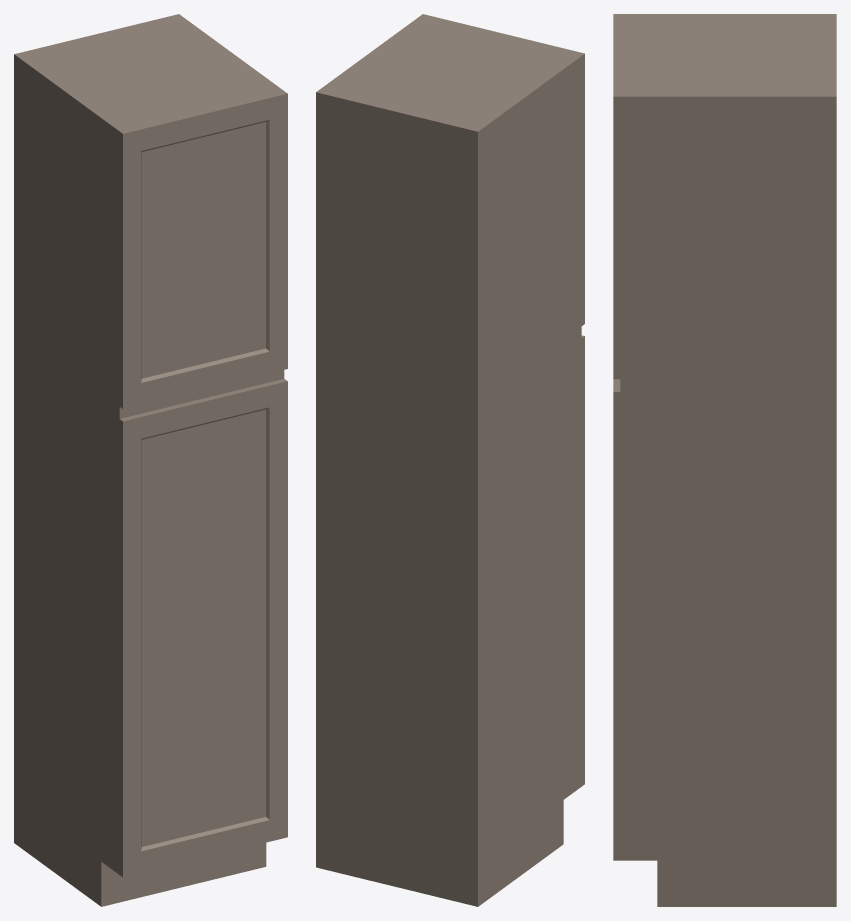
The model's file is Universal-Design-Utility-Cabinet-24-Deep_std_001_W21in_1D.glb.
3 renders of one model, left to right at view 1: azimuth 30°, elevation 25°; view 2: azimuth 150°, elevation 25°; view 3: azimuth 270°, elevation 25°, orthographic. The views are drawn at different scales.
Visible parts, largest first — view 1: Universal-Design-Utility-Cabinet-24-Deep.std.001_W21in_1D; view 2: Universal-Design-Utility-Cabinet-24-Deep.std.001_W21in_1D; view 3: Universal-Design-Utility-Cabinet-24-Deep.std.001_W21in_1D.
Part boxes in pixels (bbox=[...]): Universal-Design-Utility-Cabinet-24-Deep.std.001_W21in_1D: bbox=[14, 14, 287, 906]; Universal-Design-Utility-Cabinet-24-Deep.std.001_W21in_1D: bbox=[316, 14, 584, 906]; Universal-Design-Utility-Cabinet-24-Deep.std.001_W21in_1D: bbox=[613, 14, 836, 906].
Size of the model in its own units: 0.5334 by 2.44 by 0.6096.
